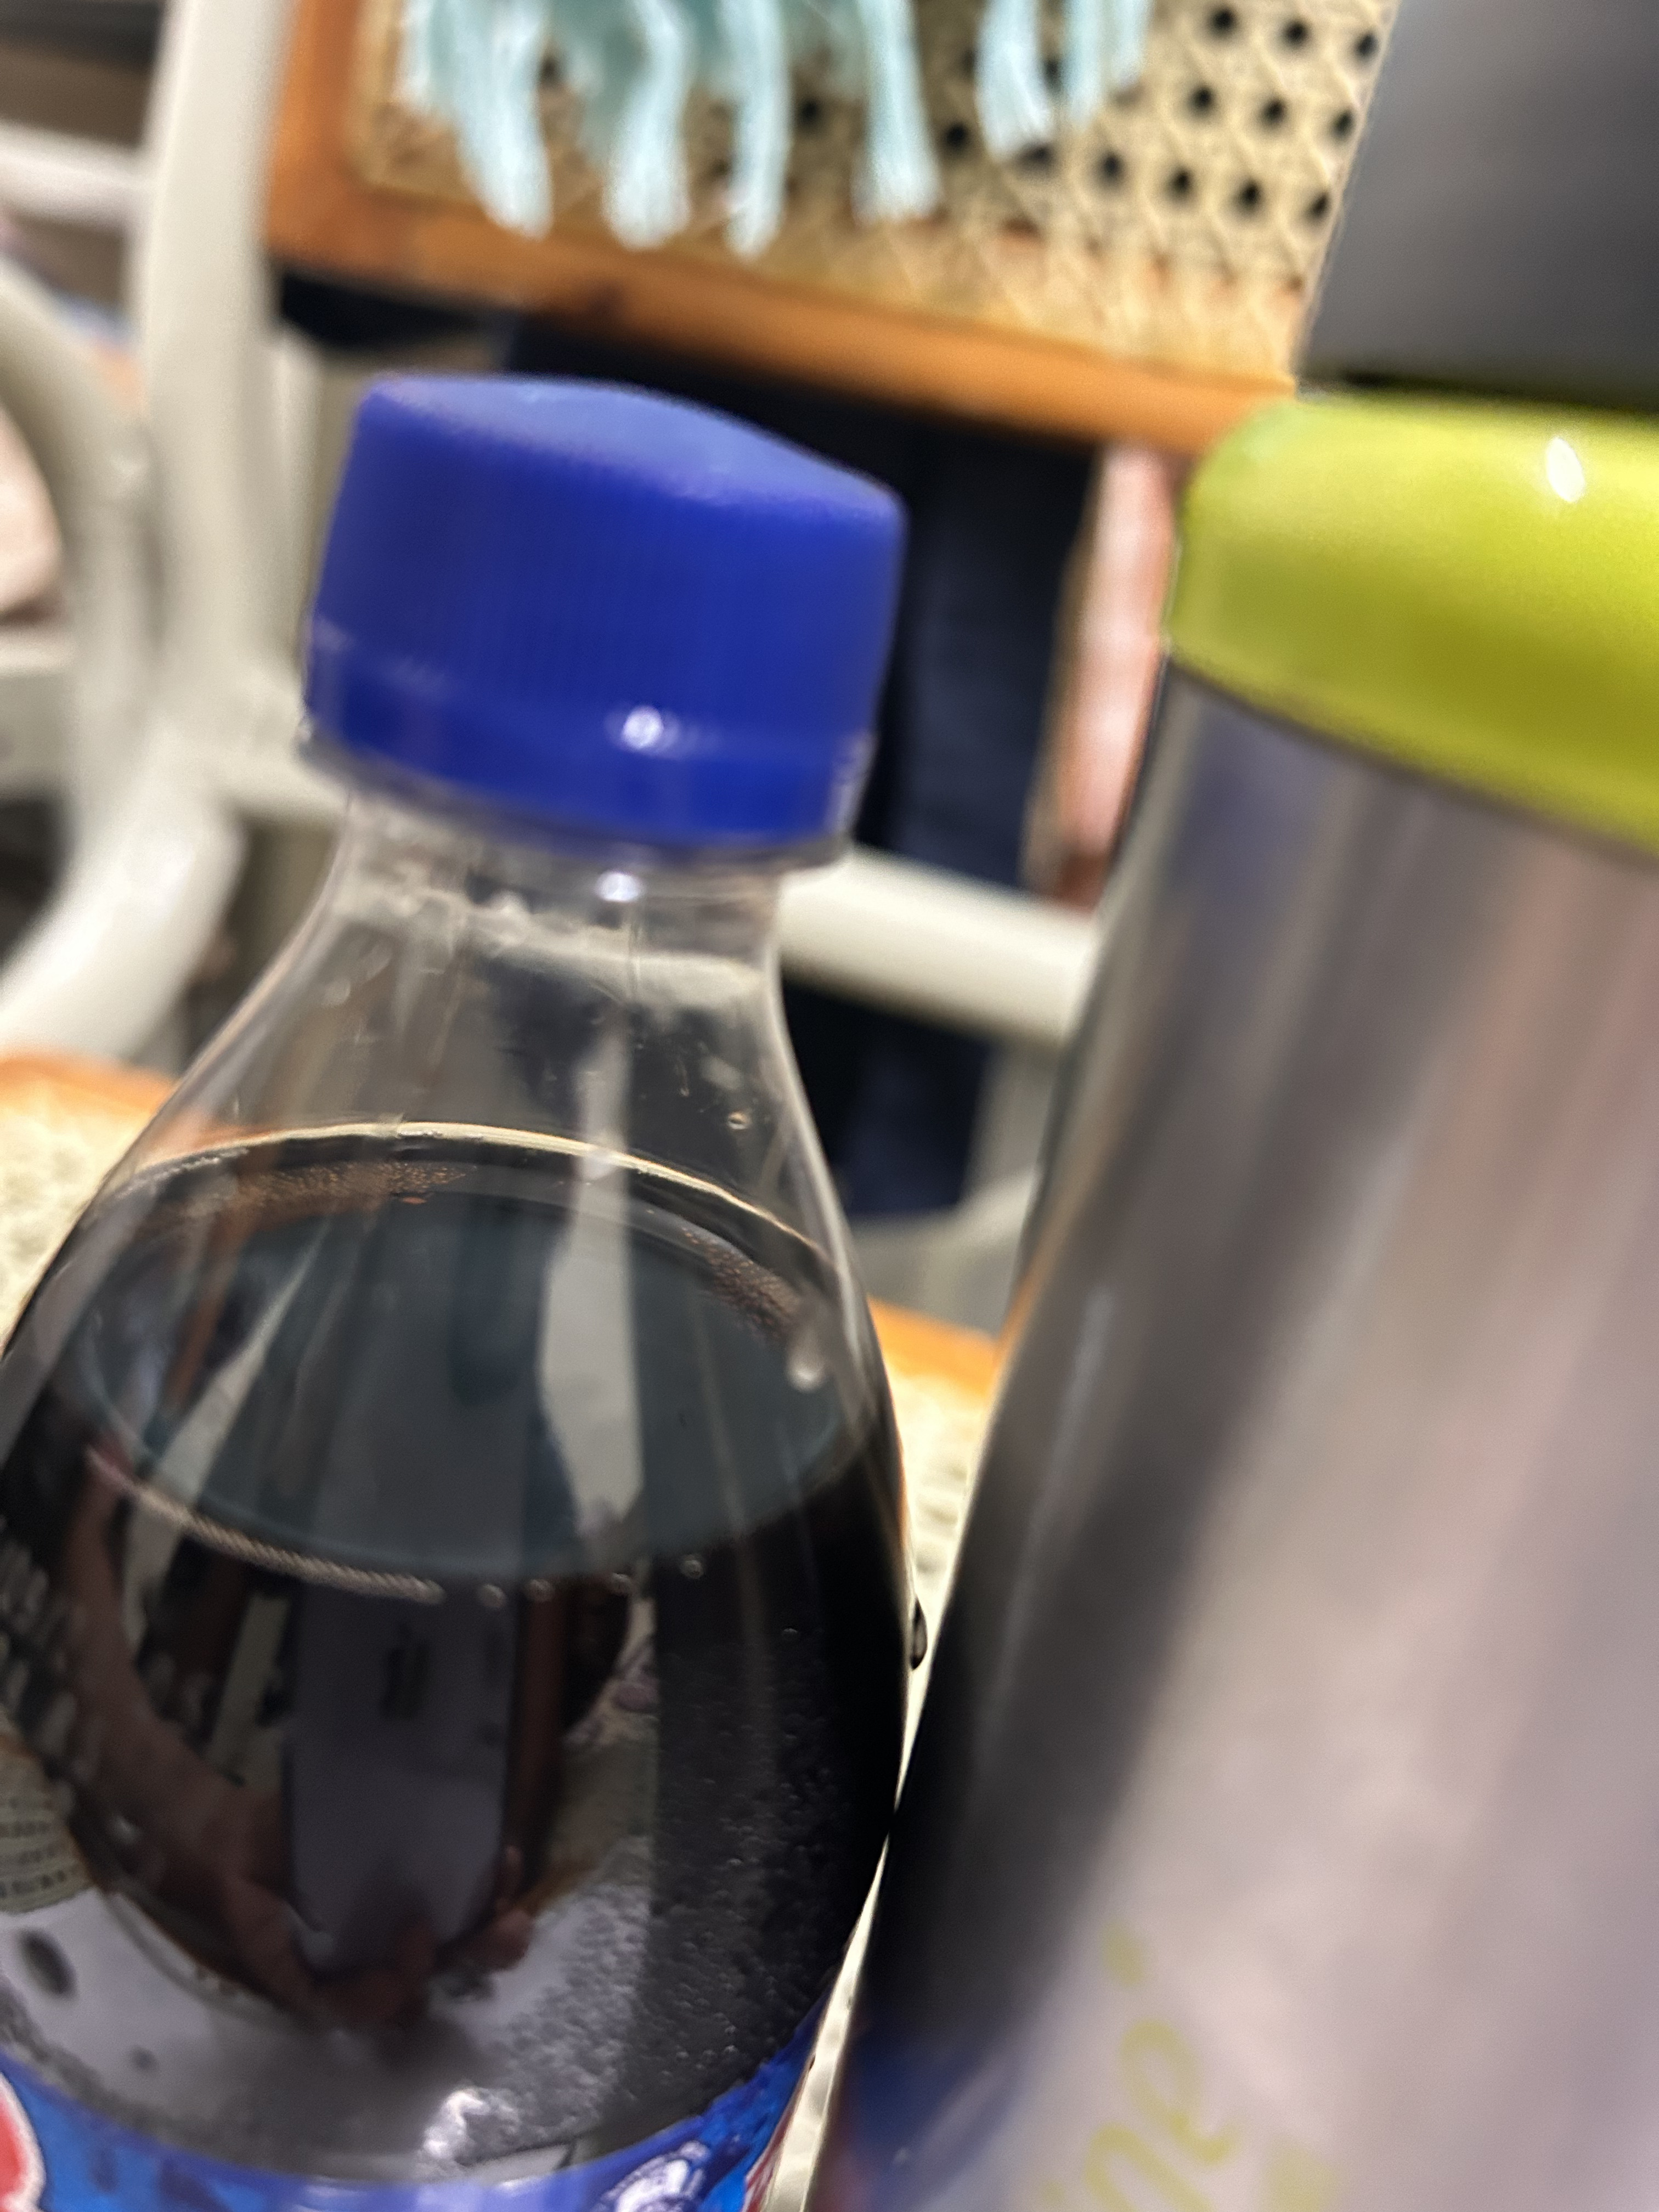sealstable: (277, 327, 899, 953)
